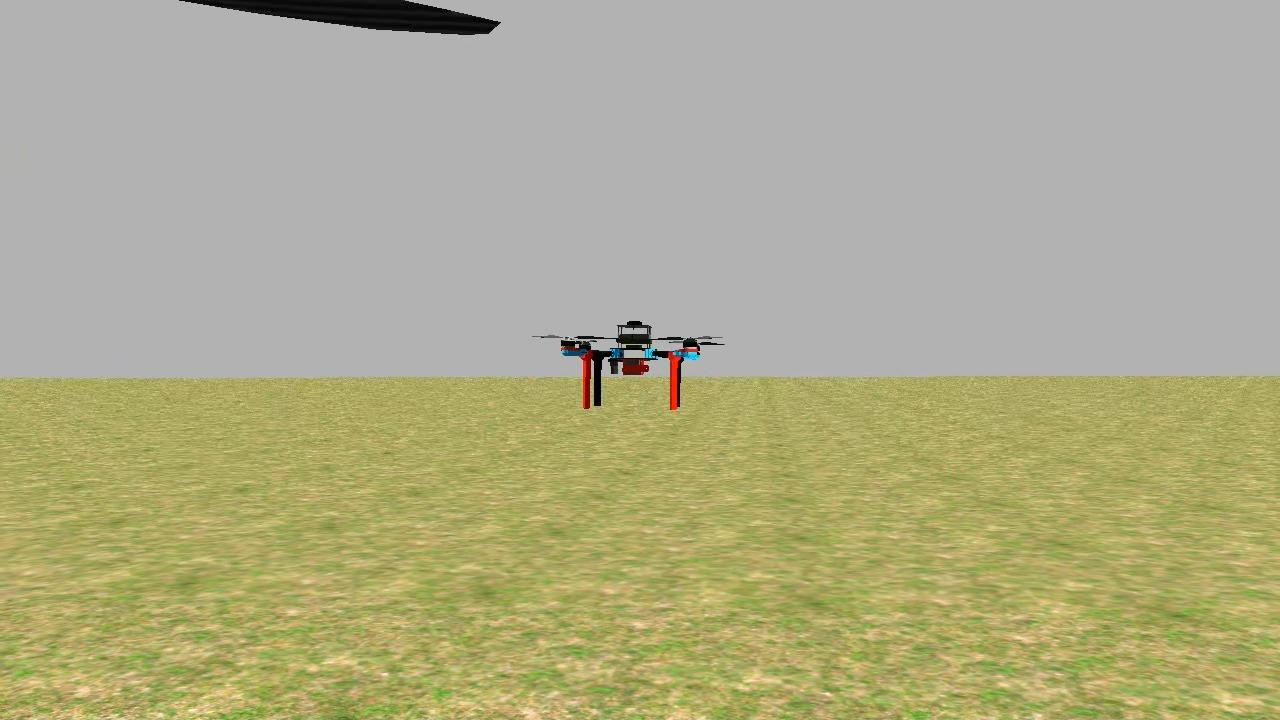UAV: (553, 298, 722, 427)
